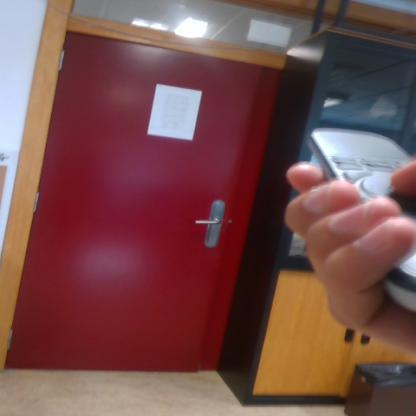door: (16, 27, 278, 370)
hinged: (56, 46, 68, 72), (32, 186, 42, 214), (6, 321, 14, 352)
lever: (194, 216, 223, 230)
